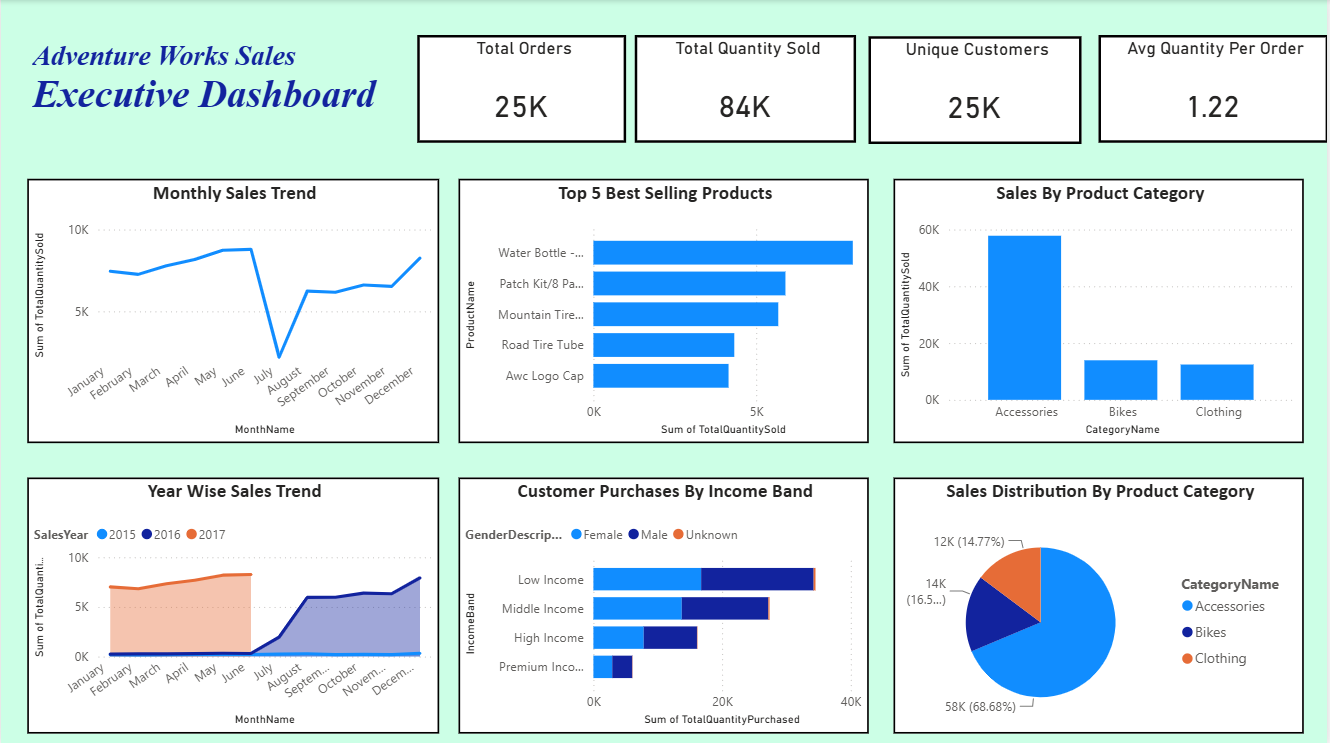

The dashboard page shown, as its layout file describes it:
{"tool":"powerbi","page":{"name":"Page 1","canvas":[1280,720],"ordinal":0},"visuals":[{"type":"card","title":"Total Orders","fields":{"Values":["Sum(gold sales_summary.TotalOrders)"]},"box":[402.3,34.2,201.8,103.9],"z":0},{"type":"card","title":"Total Quantity Sold","fields":{"Values":["Sum(gold sales_summary.TotalQuantitySold)"]},"box":[611.4,34.2,214,103.9],"z":1},{"type":"card","title":"Unique Customers","fields":{"Values":["Sum(gold sales_summary.UniqueCustomers)"]},"box":[837.6,35.5,205.4,103.9],"z":2},{"type":"card","title":"Avg Quantity Per Order","fields":{"Values":["Avg(gold sales_summary.AvgQuantityPerOrder)"]},"box":[1059,34.2,221.3,103.9],"z":3},{"type":"lineChart","title":"Monthly Sales Trend","fields":{"Category":["gold sales_summary.MonthName"],"Y":["Sum(gold sales_summary.TotalQuantitySold)"]},"box":[25.7,172.4,397.4,255.6],"z":4},{"type":"clusteredBarChart","title":"Top 5 Best Selling Products","fields":{"Category":["gold product_performance.ProductName"],"Y":["Sum(gold product_performance.TotalQuantitySold)"]},"box":[441.4,172.4,396.2,255.6],"z":5},{"type":"clusteredColumnChart","title":"Sales By Product Category","fields":{"Category":["gold product_performance.CategoryName"],"Y":["Sum(gold product_performance.TotalQuantitySold)"]},"box":[860.9,172.4,396.2,255.6],"z":6},{"type":"areaChart","title":"Year Wise Sales Trend","fields":{"Category":["gold sales_summary.MonthName"],"Y":["Sum(gold sales_summary.TotalQuantitySold)"],"Series":["gold sales_summary.SalesYear"]},"box":[25.7,461,397.4,247],"z":7},{"type":"barChart","title":"Customer Purchases By Income Band","fields":{"Y":["Sum(gold customer_summary.TotalQuantityPurchased)"],"Category":["gold customer_summary.IncomeBand"],"Series":["gold customer_summary.GenderDescription"]},"box":[441.4,461,396.2,247],"z":8},{"type":"pieChart","title":"Sales Distribution By Product Category","fields":{"Category":["gold product_performance.CategoryName"],"Y":["Sum(gold product_performance.TotalQuantitySold)"]},"box":[860.9,461,396.2,247],"z":9},{"type":"textbox","box":[25.7,34.2,349.7,105.2],"z":10}]}

Visuals, with their boxes in screenshot pixels (x1, y1, x2, y2), scaled from the page's 1280x720 canvas onto the 1330x743 screenshot:
"Total Orders" card: {"x1": 418, "y1": 35, "x2": 628, "y2": 143}
"Total Quantity Sold" card: {"x1": 635, "y1": 35, "x2": 858, "y2": 143}
"Unique Customers" card: {"x1": 870, "y1": 37, "x2": 1084, "y2": 144}
"Avg Quantity Per Order" card: {"x1": 1100, "y1": 35, "x2": 1329, "y2": 143}
"Monthly Sales Trend" lineChart: {"x1": 27, "y1": 178, "x2": 440, "y2": 442}
"Top 5 Best Selling Products" clusteredBarChart: {"x1": 459, "y1": 178, "x2": 870, "y2": 442}
"Sales By Product Category" clusteredColumnChart: {"x1": 895, "y1": 178, "x2": 1306, "y2": 442}
"Year Wise Sales Trend" areaChart: {"x1": 27, "y1": 476, "x2": 440, "y2": 731}
"Customer Purchases By Income Band" barChart: {"x1": 459, "y1": 476, "x2": 870, "y2": 731}
"Sales Distribution By Product Category" pieChart: {"x1": 895, "y1": 476, "x2": 1306, "y2": 731}
textbox: {"x1": 27, "y1": 35, "x2": 390, "y2": 144}
